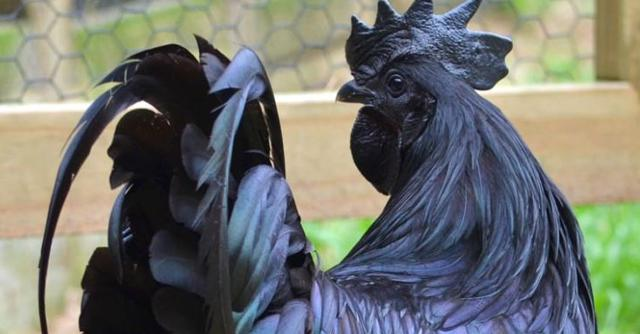Chicken: (38, 0, 598, 334)
